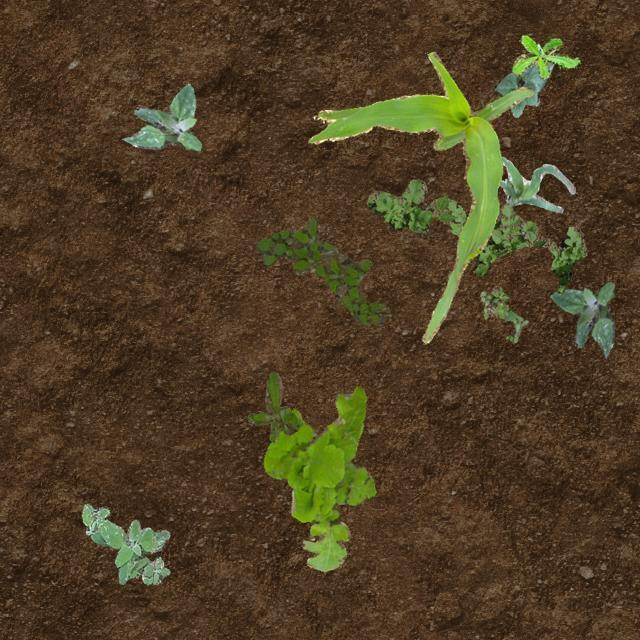crop: (308, 50, 532, 342), (498, 156, 574, 212), (492, 60, 552, 116)
weed: (366, 178, 586, 294), (262, 384, 376, 570), (254, 216, 388, 324), (80, 504, 170, 584), (122, 82, 200, 150), (550, 280, 614, 358), (246, 371, 298, 442), (511, 34, 578, 78), (478, 284, 526, 342)
